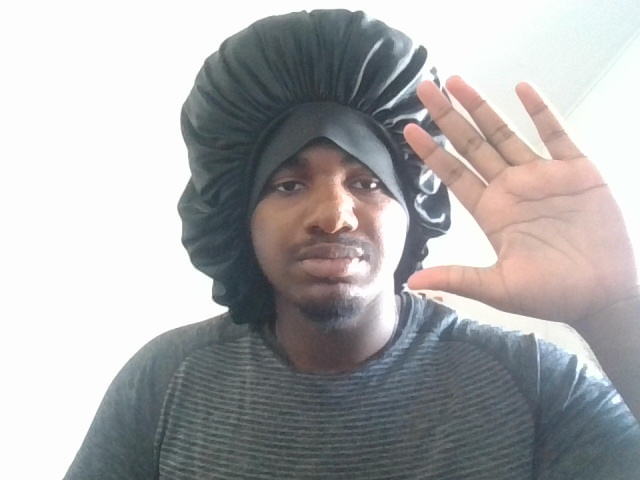Hello: (393, 65, 640, 318)
